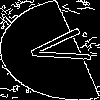V: (25, 25, 100, 70)
